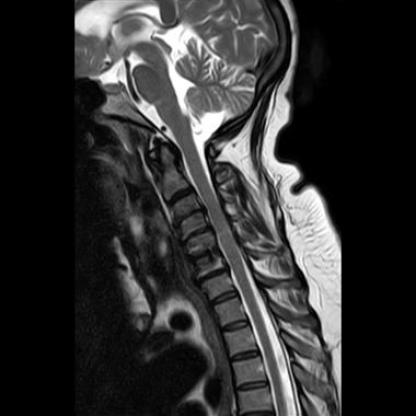Disc Bulgerotation: (193, 264, 232, 283), (170, 210, 208, 222)
Osteophytesrotation: (193, 263, 232, 283), (176, 227, 215, 240), (170, 210, 208, 222)
